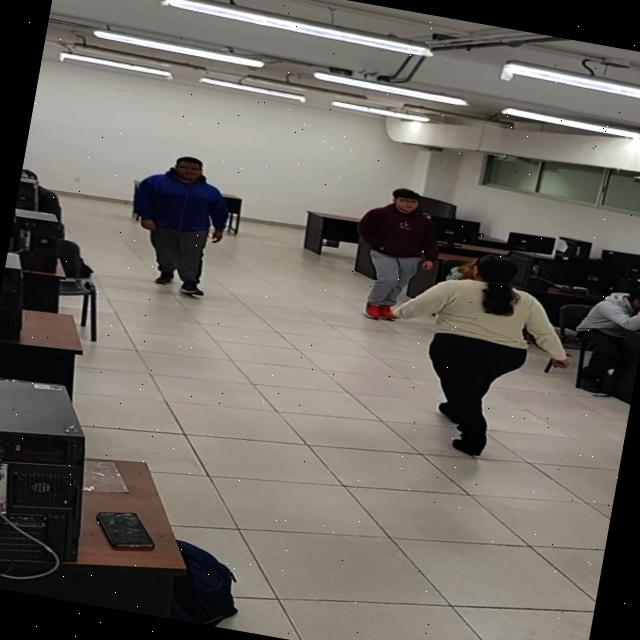Persona: (363, 242, 582, 470), (120, 145, 240, 300), (348, 182, 456, 330)
